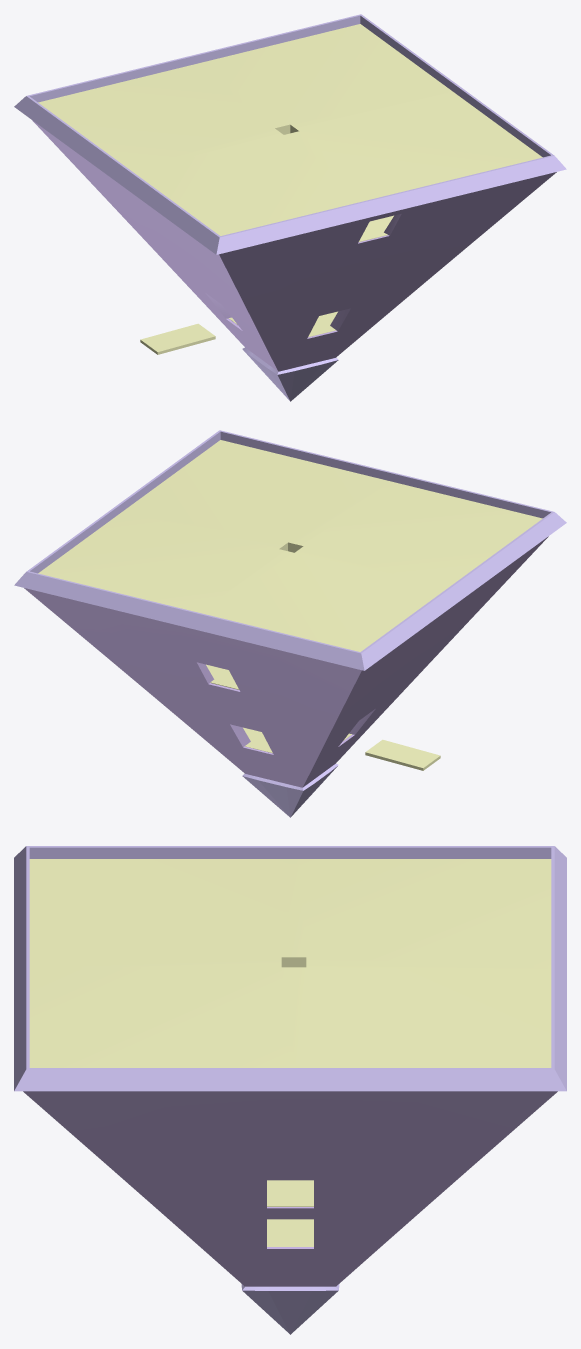
The model's file is Pyrimid.fbx.
3 views of the same model, one above another, from view 1: azimuth 30°, elevation 25°; view 2: azimuth 150°, elevation 25°; view 3: azimuth 270°, elevation 25° (orthographic). The views are drawn at different scales.
Parts seen in each view (by area): view 1: pyramid; view 2: pyramid; view 3: pyramid.
Boxes of the visible parts, x1,y1,x2,y2 form: pyramid: (14,14,566,401); pyramid: (14,430,566,817); pyramid: (14,846,566,1334).
Bounding box in the file's own units: 22180 × 16684 × 22180.
